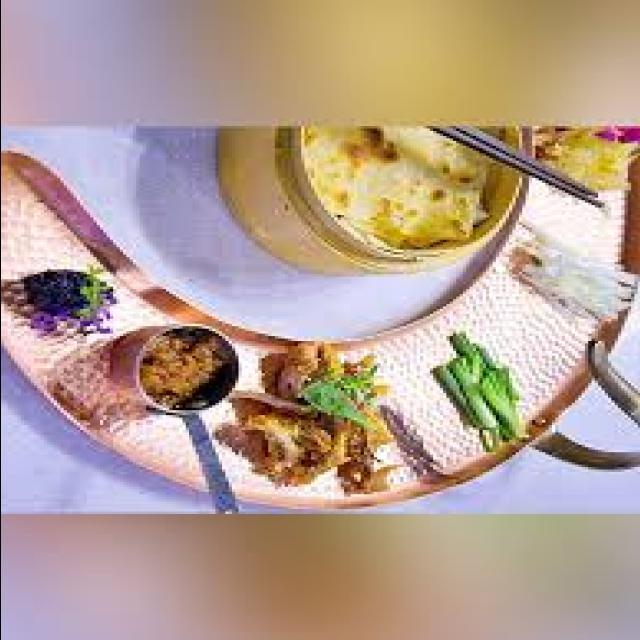sweet: (292, 118, 492, 266)
